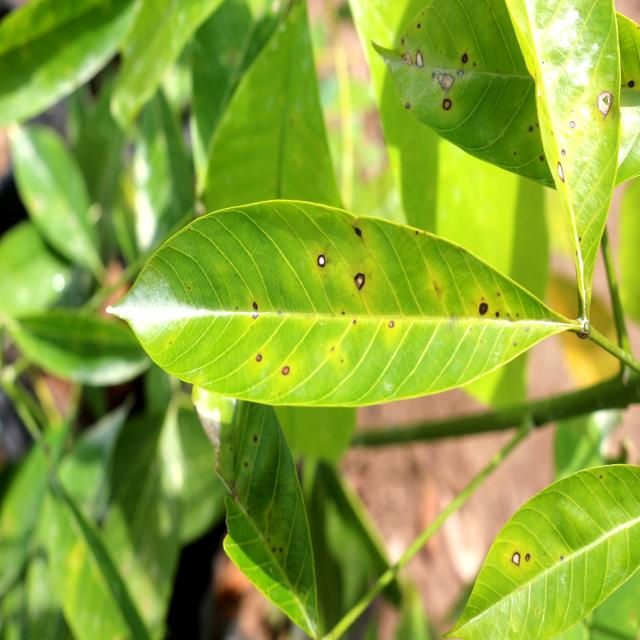Colletotrichum: (597, 90, 613, 117), (354, 272, 365, 290), (557, 161, 565, 183), (415, 50, 424, 68), (479, 302, 488, 316), (442, 98, 452, 110), (317, 254, 326, 267), (512, 552, 520, 566), (282, 366, 290, 375), (456, 70, 464, 78), (462, 53, 468, 63), (256, 354, 262, 362), (628, 80, 634, 88), (569, 121, 575, 128), (253, 302, 258, 310), (525, 554, 530, 562), (389, 321, 394, 328), (561, 148, 565, 156), (406, 103, 410, 110), (529, 126, 532, 132), (496, 312, 499, 317), (540, 156, 543, 161)
